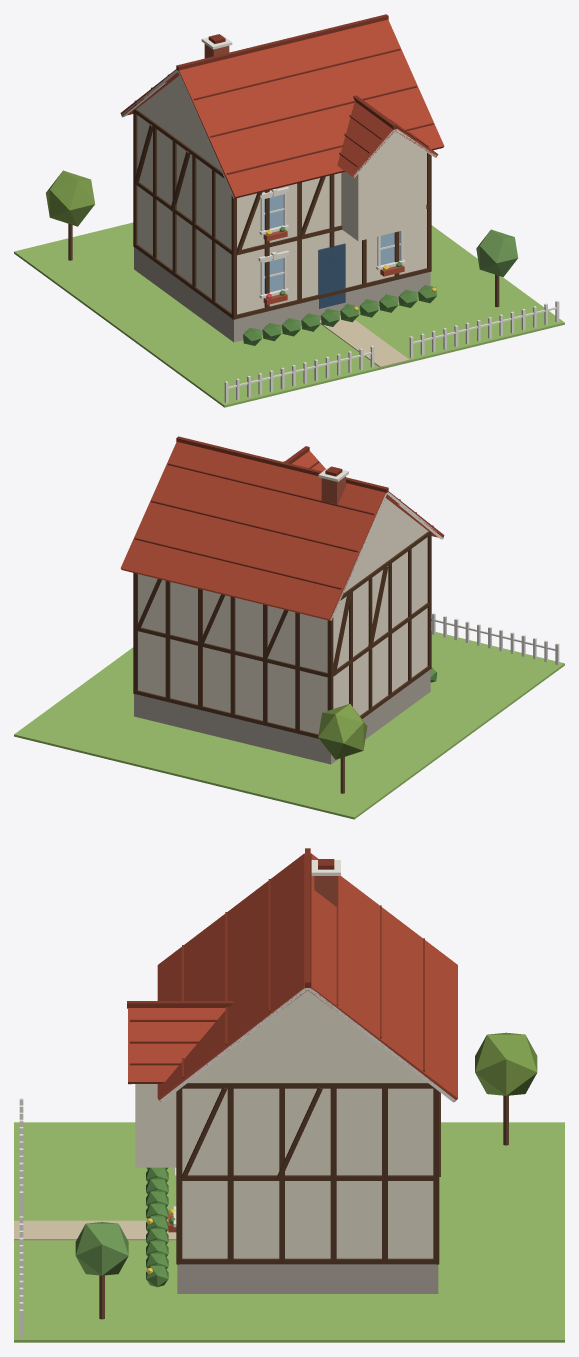
The model's file is Konut_konak_3_Hafif.fbx.
3 renders of one model, top to bottom at view 1: azimuth 30°, elevation 25°; view 2: azimuth 150°, elevation 25°; view 3: azimuth 270°, elevation 25°, orthographic. The views are drawn at different scales.
Visible parts, largest first — view 1: Konut_konak_3_Hafif; view 2: Konut_konak_3_Hafif; view 3: Konut_konak_3_Hafif.
Part boxes in pixels (<box>): Konut_konak_3_Hafif: <box>14,14,564,407</box>; Konut_konak_3_Hafif: <box>14,436,564,819</box>; Konut_konak_3_Hafif: <box>14,848,564,1342</box>.
Bounding box in the file's own units: 14 × 10.04 × 15.
